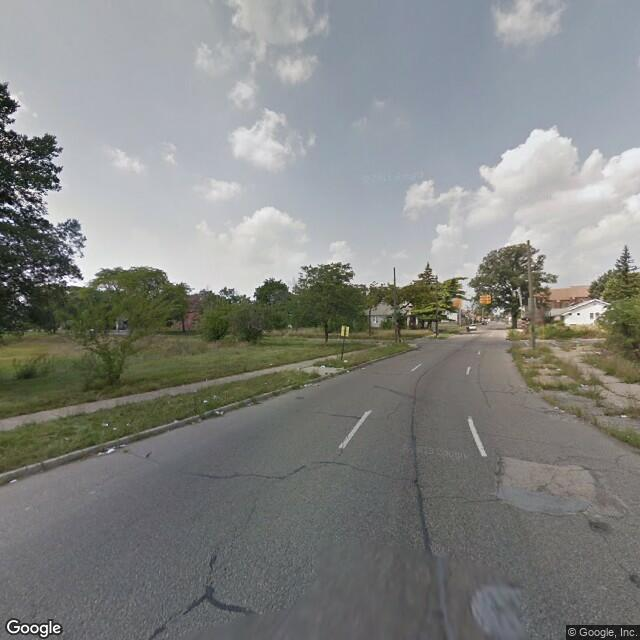litter: (97, 443, 118, 457), (3, 473, 20, 488), (297, 381, 316, 390), (210, 410, 228, 418), (199, 397, 212, 406), (616, 411, 628, 420), (170, 418, 179, 425), (101, 423, 113, 428), (316, 365, 328, 370), (581, 383, 592, 388)
